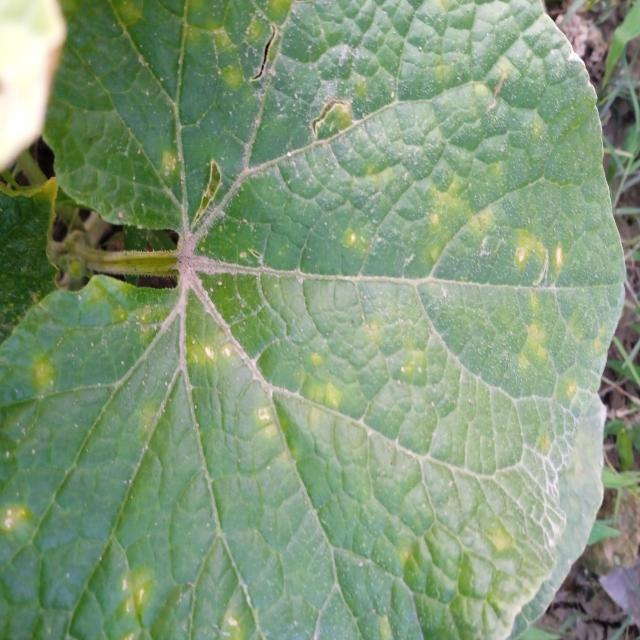cucumber_downy: (88, 5, 617, 573)
